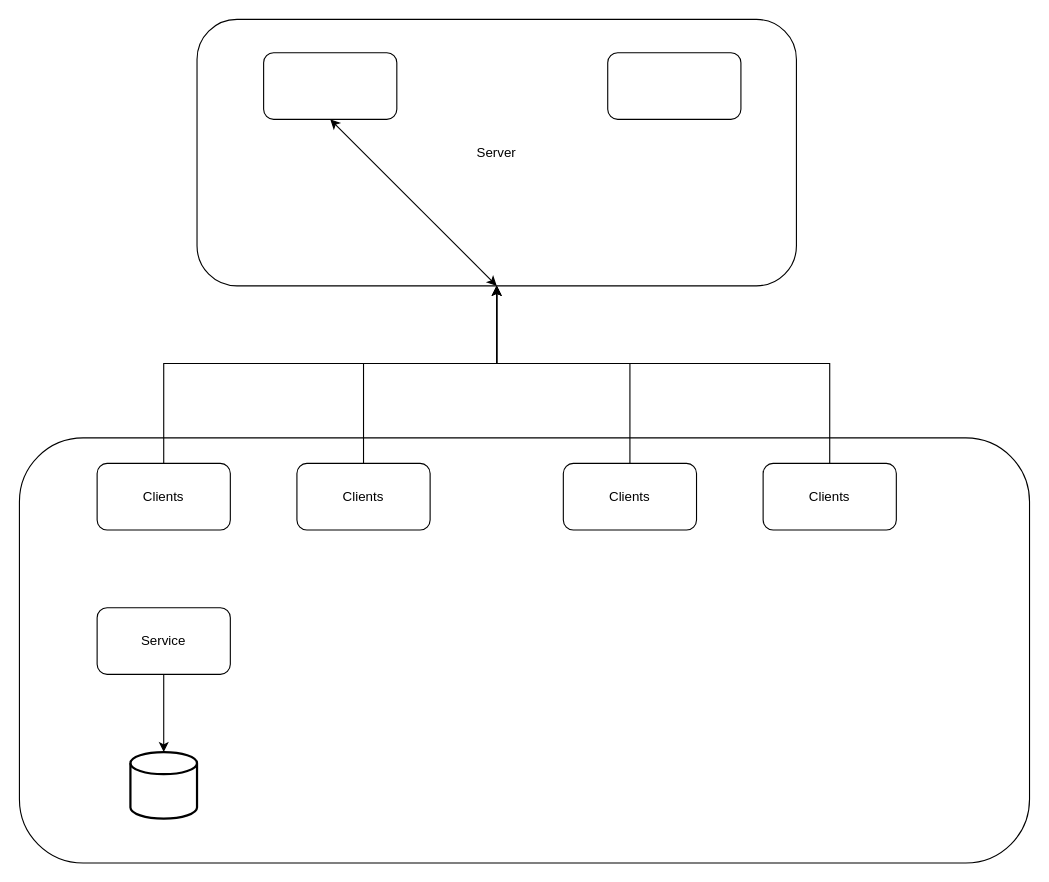
Image size: 1049x882. Some labels were removed from this diagram. The centre of each missing label's shape, as x and y in pixels:
DB: point (163, 784)
Master file Sync Service: point (674, 85)
Save Files in Folder: point (330, 85)
